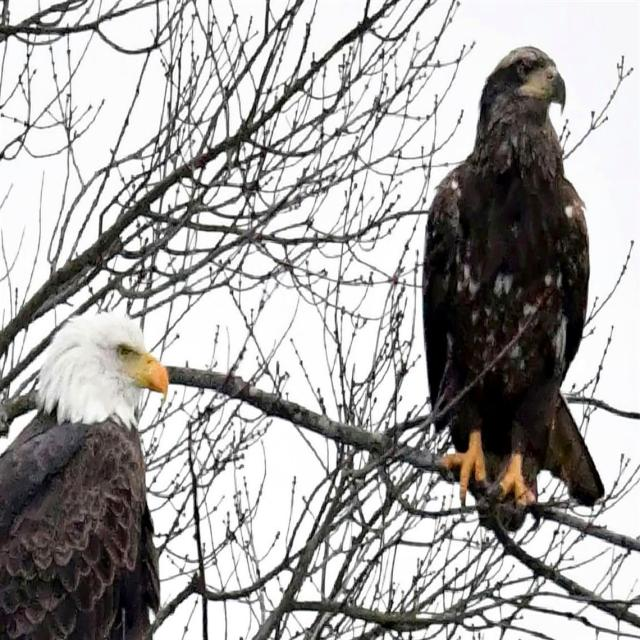eagle: (423, 47, 604, 505), (1, 314, 170, 639)
